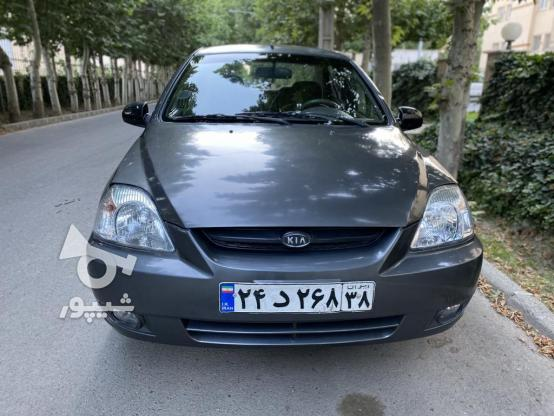car: (218, 282, 374, 310)
